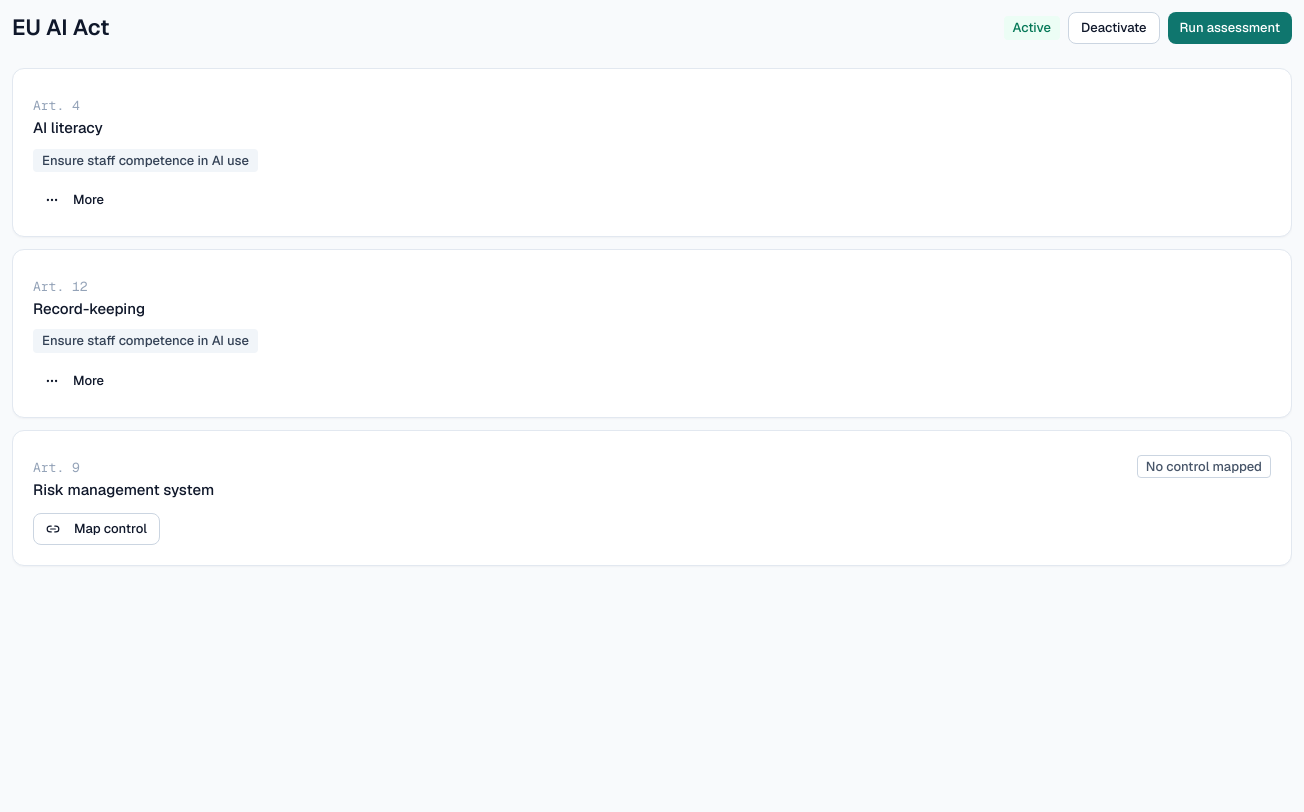
framework requirement states › keeps map and attach available under More
The width and height of the screenshot is (1304, 812).
Expected: the text "AI literacy" is shown, top-left (33, 116), bottom-right (103, 140)
Step 1. Click the button "More" below "AI literacy" → [74, 200], box top-left (33, 184), bottom-right (116, 216)
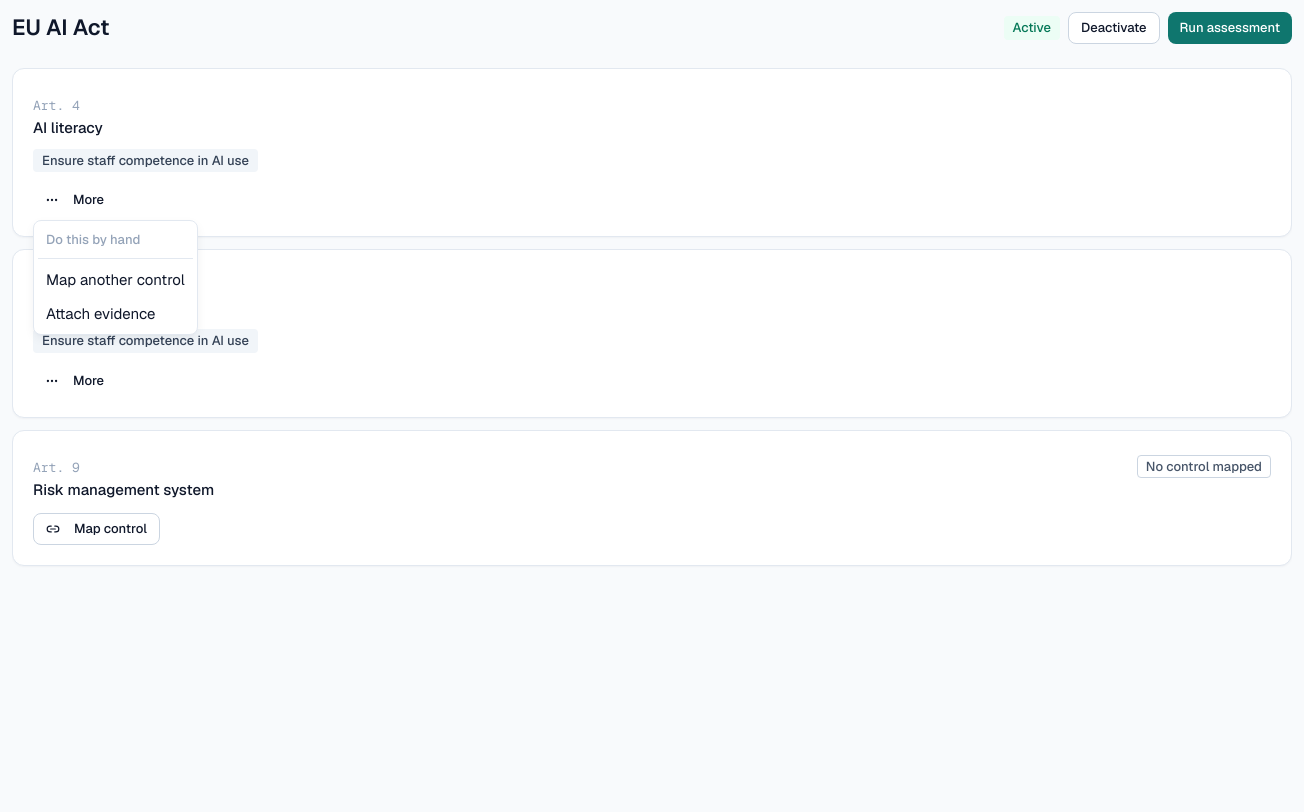
Expected: the menu item "Map another control" is shown, top-left (46, 270), bottom-right (185, 289)
Expected: the menu item "Attach evidence" is shown, top-left (46, 304), bottom-right (156, 323)
